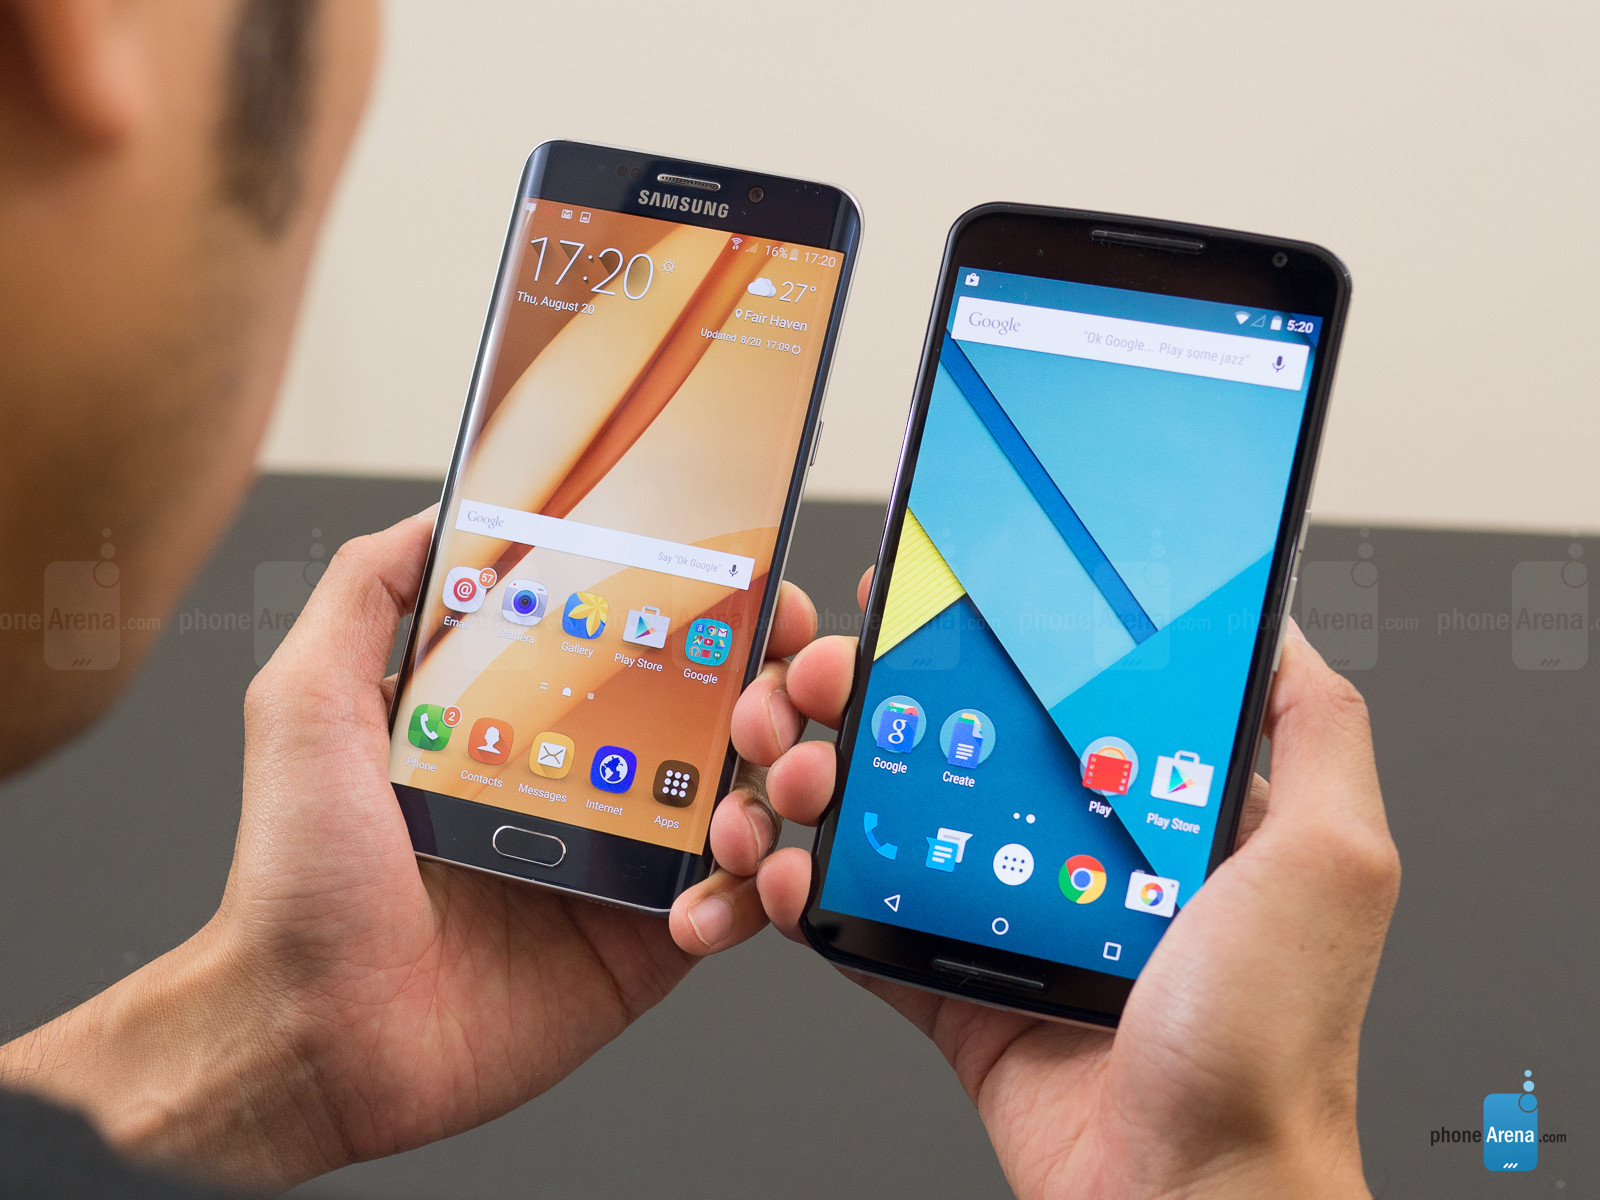smartphone: (799, 200, 1354, 1031), (388, 139, 864, 915)
